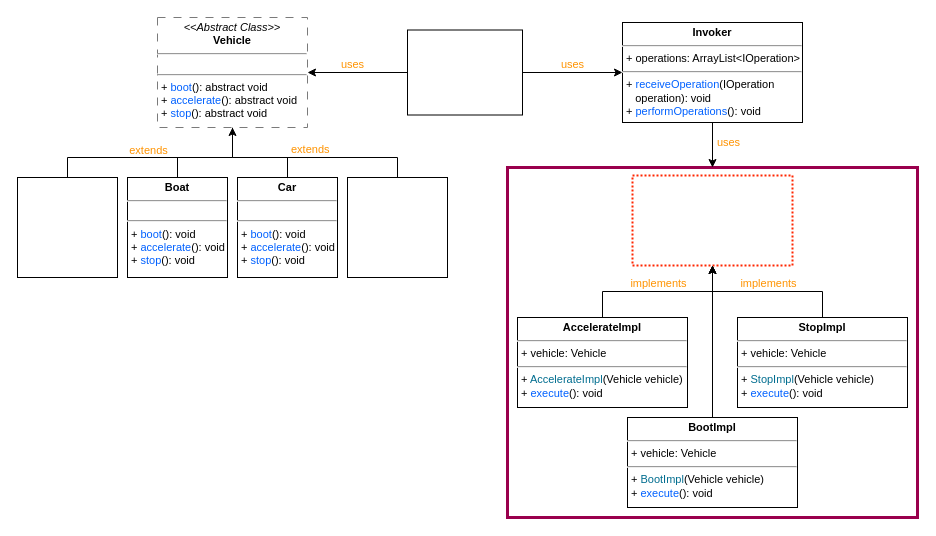
Some shapes in this 936 by 536 pixel diagram are drawn without their labels. Each missing label, with the centre of its shape:
"<<Interface>> IOperation + execute (): void" goes at (712,220).
"App + main (): void" goes at (464,72).
"Bicycle + boot (): void + accelerate (): void + stop (): void" goes at (67,227).
"Plane + boot (): void + accelerate (): void + stop (): void" goes at (397,227).
